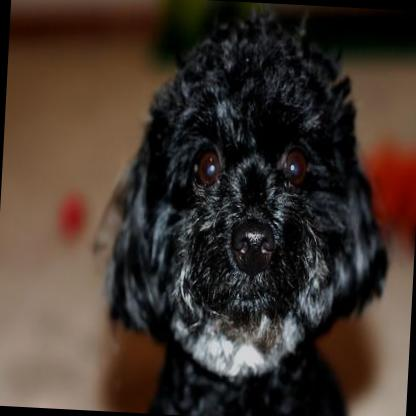toy_poodle: (102, 4, 401, 416)
